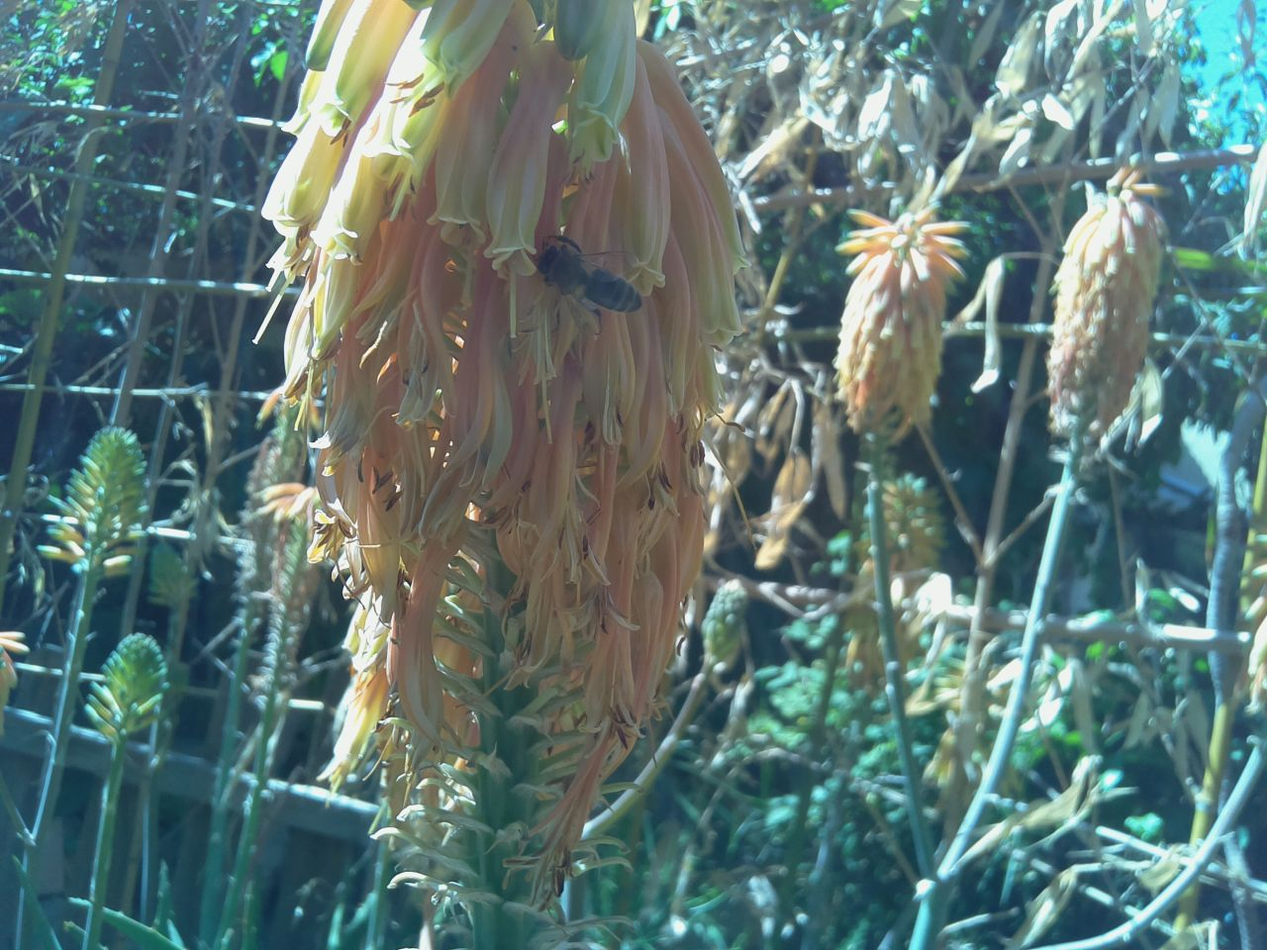Apis mellifera: (501, 224, 677, 336)
